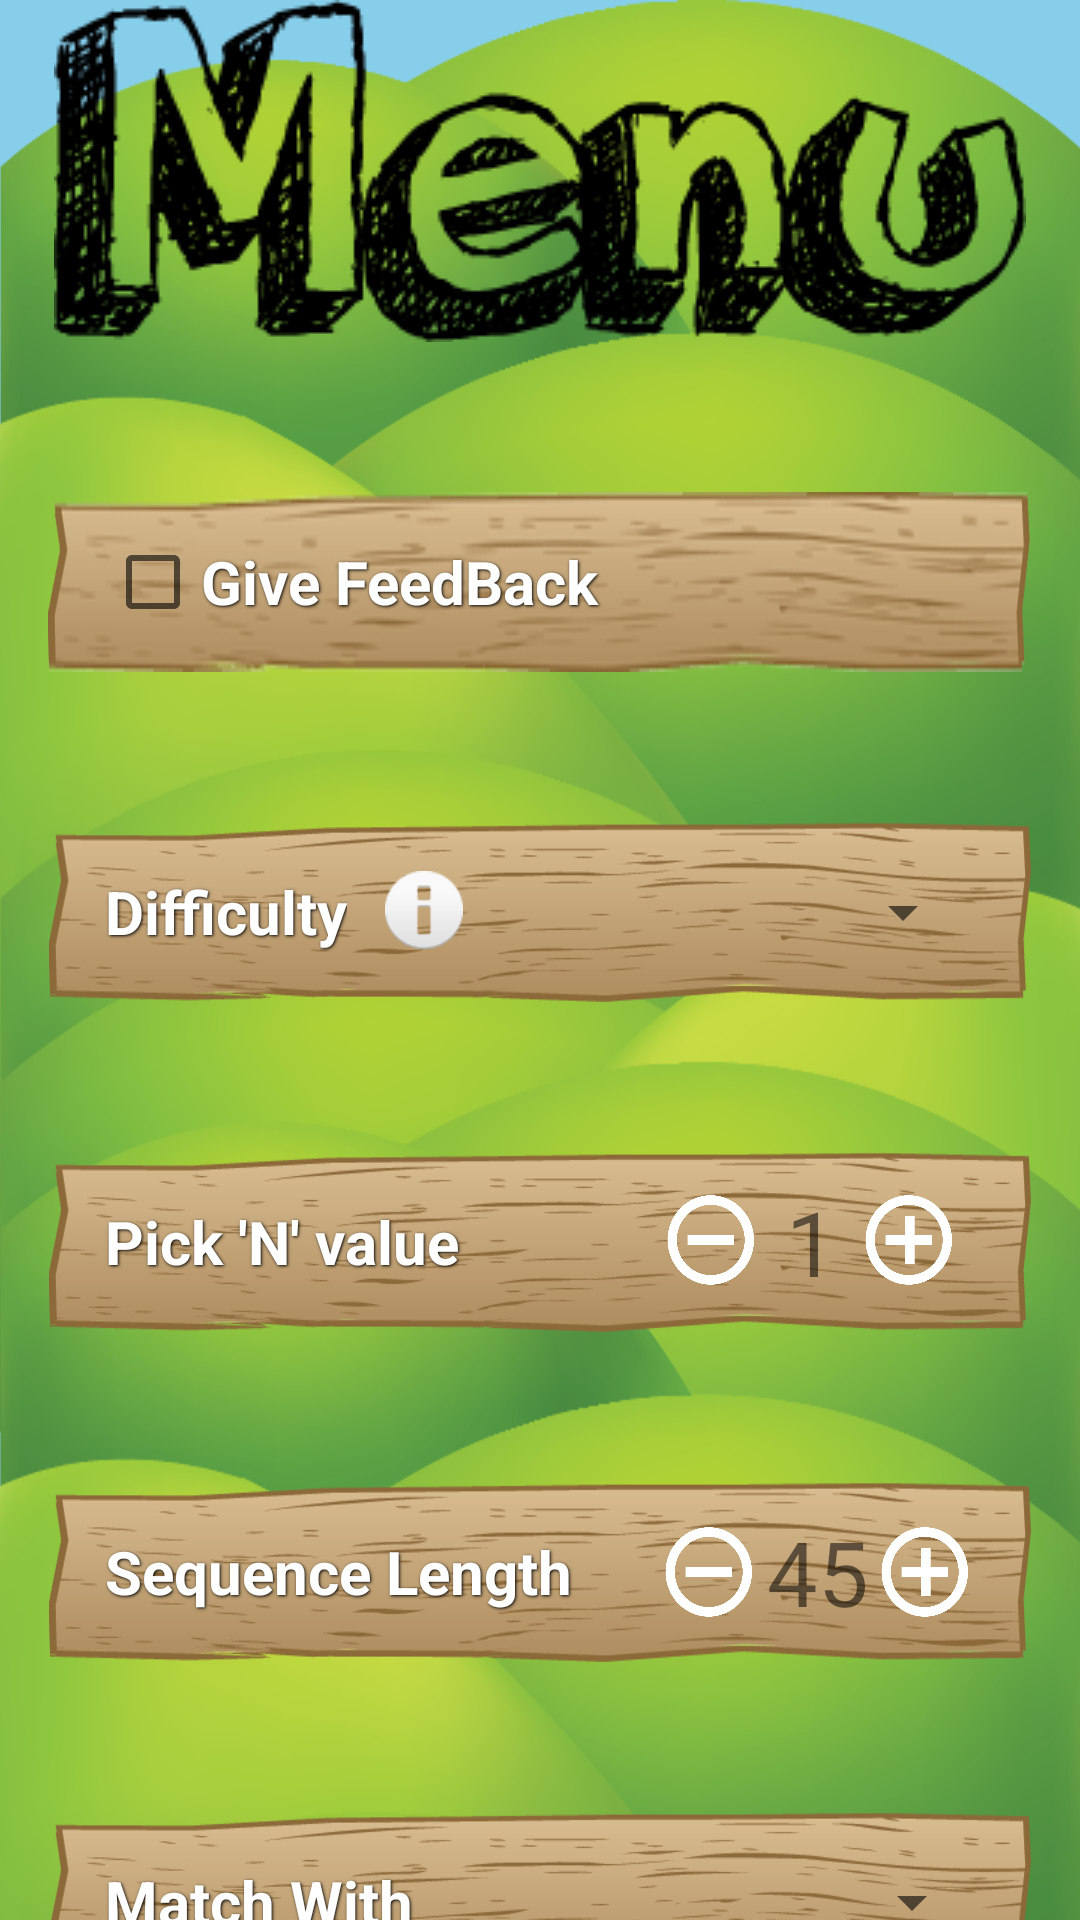

Icon click points for this 1080x1920 phone screenshot, format point (x, y):
info: point (424, 910)
minus sign: point (712, 1240), point (710, 1572)
plus sign: point (910, 1240), point (926, 1572)
